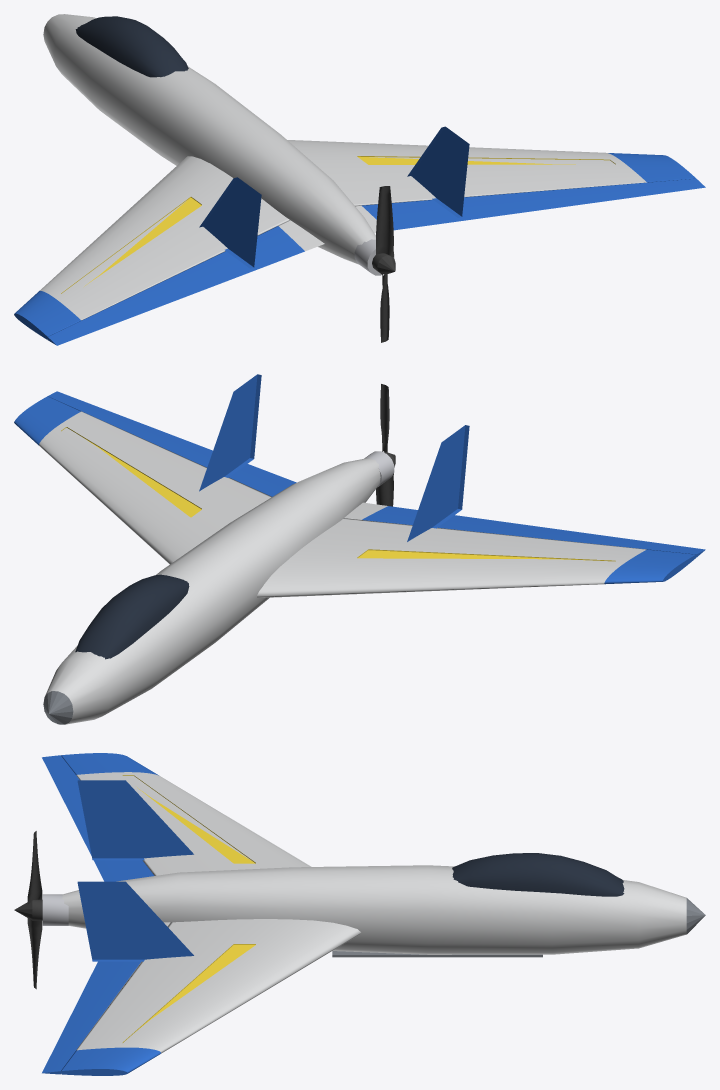
Rendered from fast_delta_780.glb.
3 renders of one model, top to bottom at view 1: azimuth 30°, elevation 25°; view 2: azimuth 150°, elevation 25°; view 3: azimuth 270°, elevation 25°, orthographic.
Parts seen in each view (by area): view 1: fuselage, wing_left, wing_right, elevon_right, elevon_left, canopy, fin_right, fin_left, propeller_rotor, motor; view 2: fuselage, wing_left, wing_right, canopy, fin_left, fin_right, elevon_left, elevon_right, propeller_rotor; view 3: fuselage, wing_right, wing_left, fin_right, fin_left, canopy, elevon_right, elevon_left, propeller_rotor, motor.
Part boxes in pixels (box(x1,y1,x2,y2)): fuselage: box(43, 14, 375, 264); wing_left: box(14, 156, 324, 345); wing_right: box(287, 140, 705, 232); elevon_right: box(361, 180, 686, 230); elevon_left: box(61, 226, 304, 339); canopy: box(75, 16, 188, 77); fin_right: box(407, 126, 469, 217); fin_left: box(199, 177, 261, 268); propeller_rotor: box(372, 186, 395, 342); motor: box(354, 239, 394, 275); fuselage: box(43, 458, 380, 724); wing_left: box(257, 502, 705, 597); wing_right: box(14, 391, 271, 564); canopy: box(75, 574, 189, 659); fin_left: box(407, 425, 469, 541); fin_right: box(199, 374, 261, 491); elevon_left: box(362, 506, 686, 552); elevon_right: box(61, 397, 296, 496); propeller_rotor: box(376, 384, 395, 506); fuselage: box(62, 865, 705, 957); wing_right: box(42, 919, 360, 1075); wing_left: box(42, 753, 311, 875); fin_right: box(77, 881, 193, 961); fin_left: box(77, 780, 193, 860); canopy: box(452, 853, 624, 896); elevon_right: box(46, 961, 140, 1064); elevon_left: box(46, 763, 154, 881); propeller_rotor: box(14, 831, 42, 989); motor: box(42, 894, 68, 925).
Size of the model in its own units: 0.78 by 0.1789 by 0.722.
